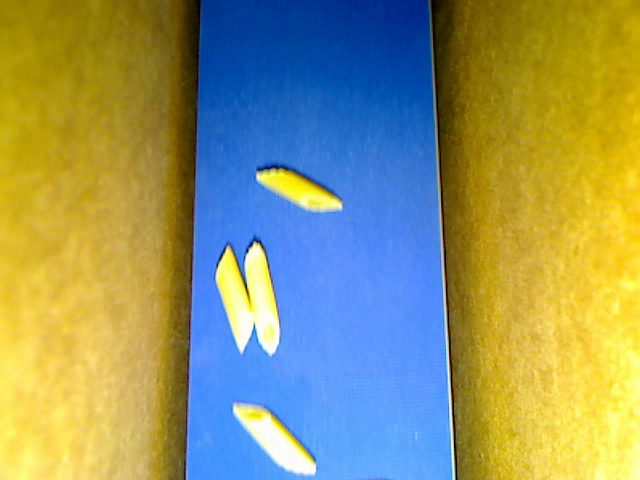penne: (231, 403, 317, 474), (216, 241, 252, 353), (254, 166, 343, 211), (245, 243, 281, 354)
